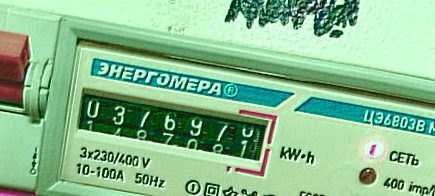0: (84, 95, 101, 119)
1: (236, 137, 250, 159)
3: (111, 104, 128, 126)
6: (162, 107, 180, 133)
7: (212, 118, 231, 143), (136, 104, 154, 130)
9: (187, 113, 204, 137)
screen: (65, 73, 283, 181)
